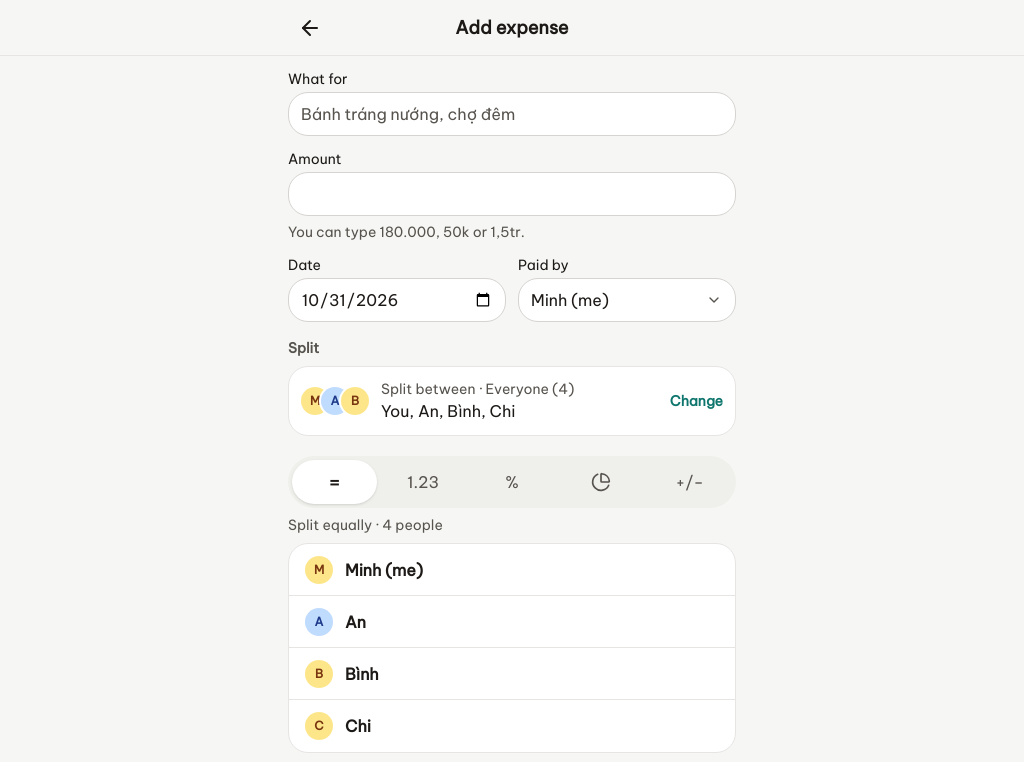
Test case: ExpenseForm, blank boxes share what is left › exact: 400.000 for Minh gives the others 200.000 each
Type "Lẩu nấm" into the field labelled "What for".
click(512, 114); type("Lẩu nấm")  # box [288,92,736,136]
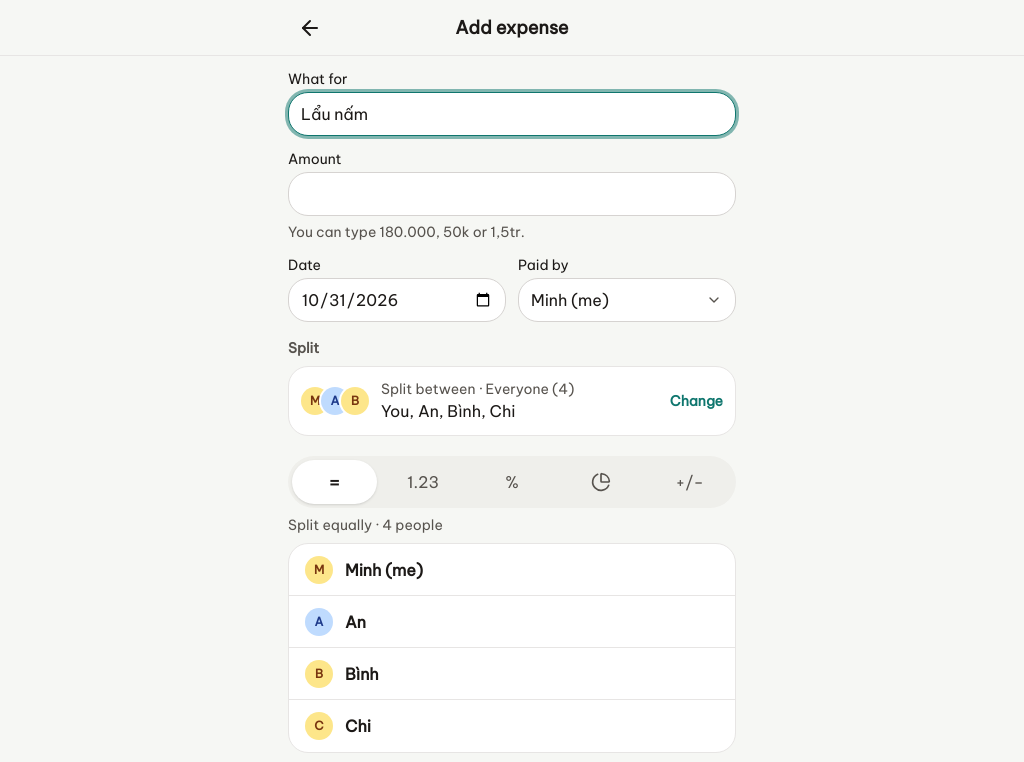
Type "1.000.000" into the field labelled "Amount".
click(512, 194); type("1.000.000")  # box [288,172,736,216]
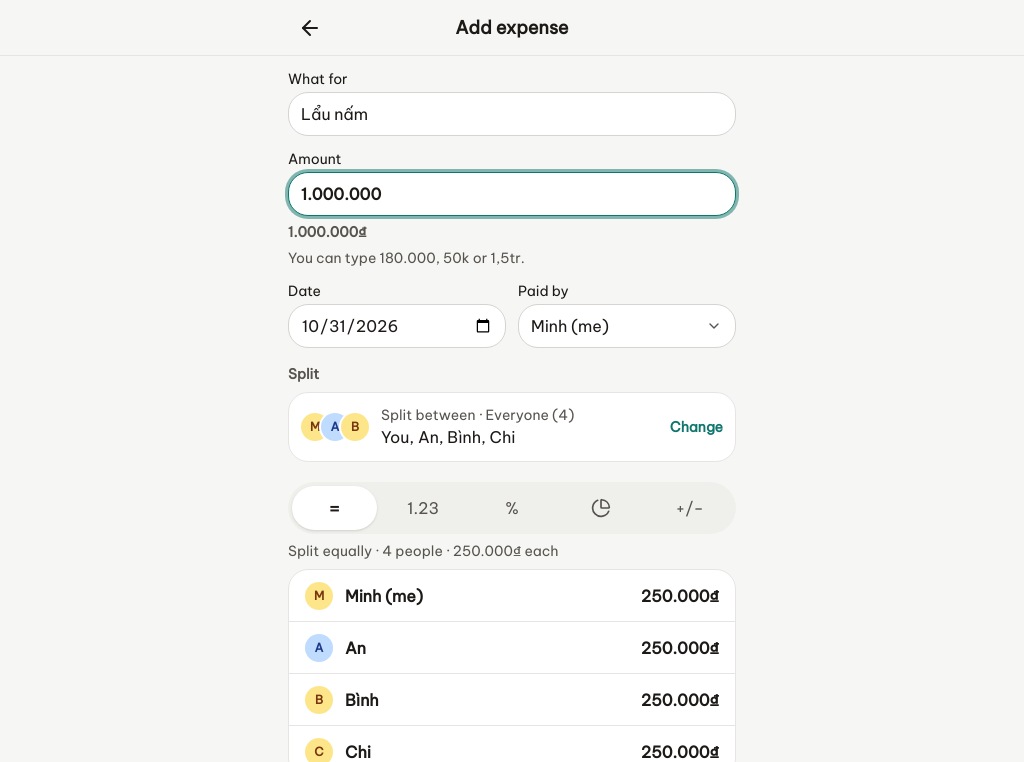
Click the radio button named "Exact amounts".
click(423, 508)  # box [381,486,466,530]
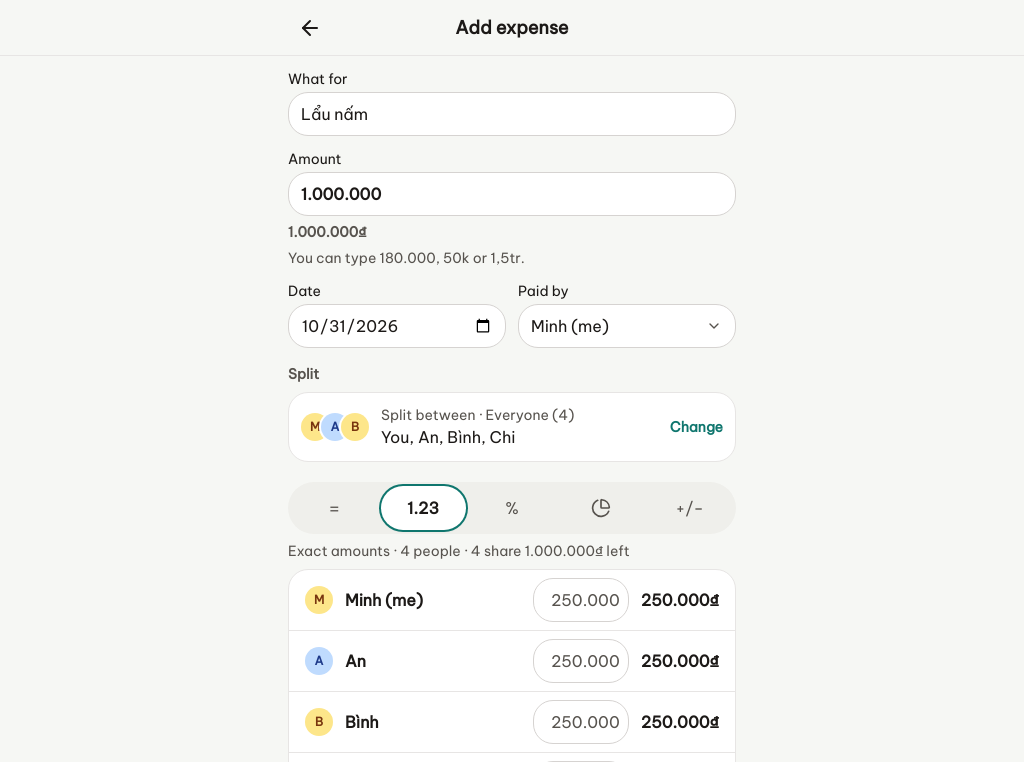
Type "400.000" into the field named "Amount for Minh".
click(581, 600); type("400.000")  # box [533,578,629,622]
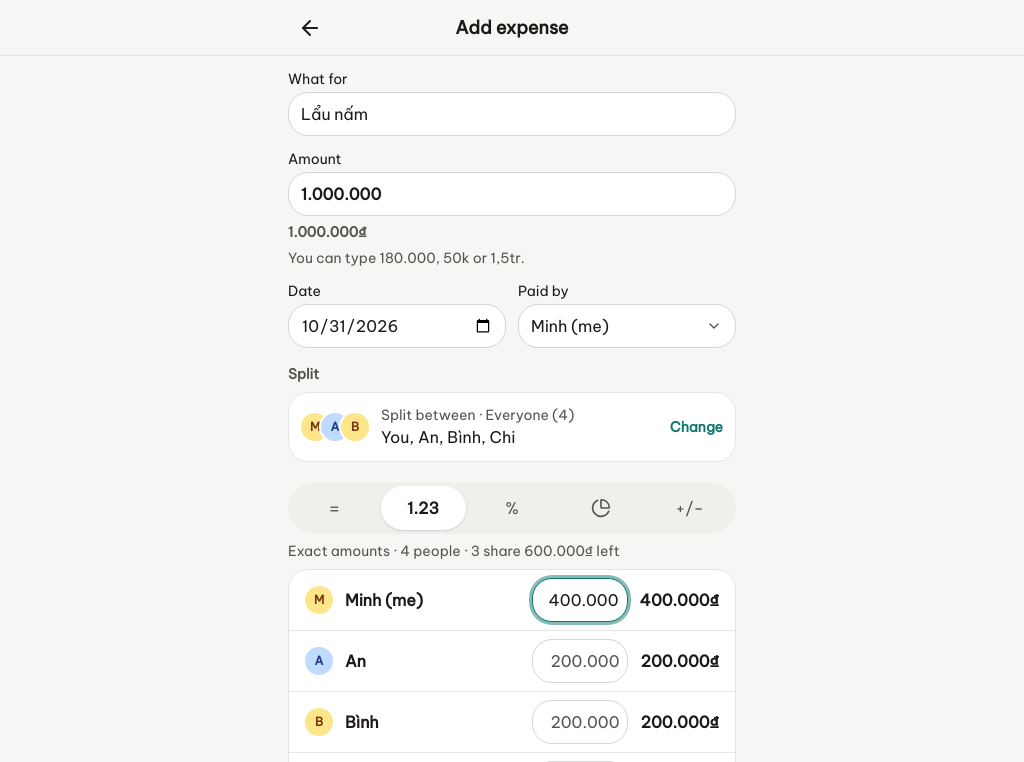
Result: the text "Exact amounts · 4 people · 3 share 600.000₫ left" is shown at [288,542,620,560]
